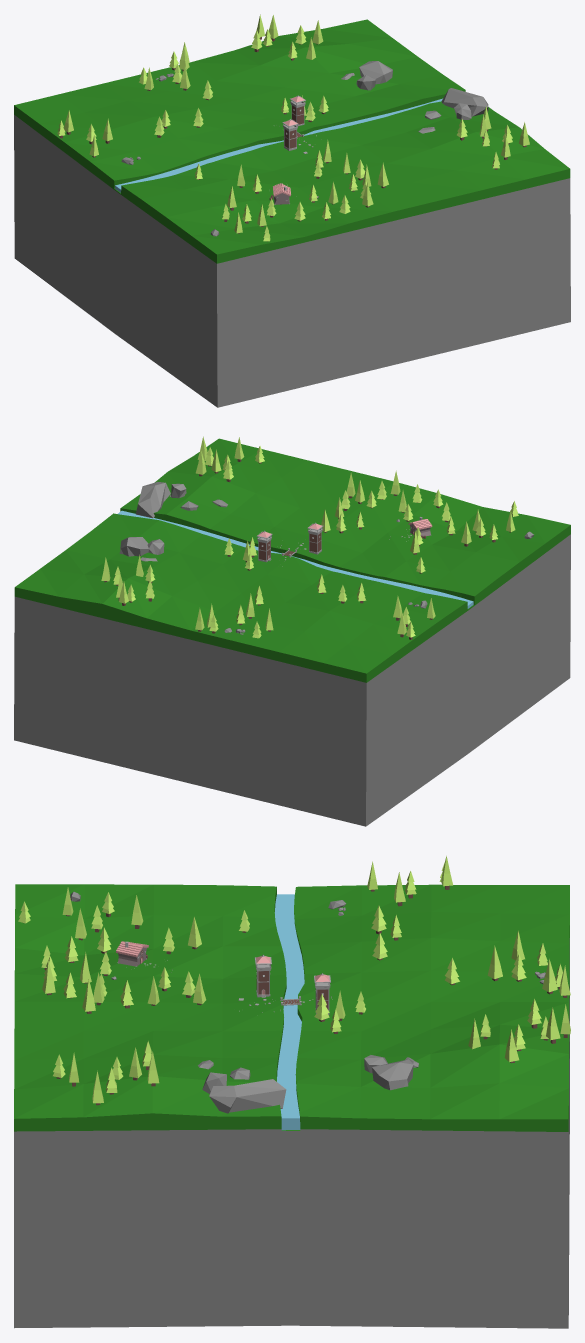
Rendered from LowPolyScene.fbx.
The picture shows the model from 3 angles, top to bottom: view 1: azimuth 30°, elevation 25°; view 2: azimuth 150°, elevation 25°; view 3: azimuth 270°, elevation 25°; orthographic projection. The views are drawn at different scales.
Parts seen in each view (by area): view 1: Ground, River, Rock.005, Rock.001; view 2: Ground, River, Rock.005, Rock.001; view 3: Ground, River, Rock.005, Rock.001, House, Tower.001.
Boxes of the visible parts, box(x1,y1,x2,y2) form: Ground: box(14, 19, 570, 407); River: box(115, 98, 442, 192); Rock.005: box(441, 88, 488, 116); Rock.001: box(359, 61, 392, 84); Ground: box(14, 438, 570, 826); River: box(118, 510, 473, 608); Rock.005: box(136, 482, 170, 518); Rock.001: box(119, 537, 148, 556); Ground: box(14, 884, 569, 1328); River: box(274, 894, 304, 1130); Rock.005: box(209, 1079, 286, 1113); Rock.001: box(372, 1059, 413, 1090); House: box(116, 941, 148, 966); Tower.001: box(254, 954, 271, 997).
Bounding box in the file's own units: 4032 × 2047 × 4016.
